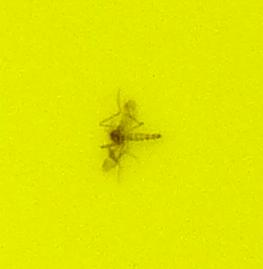Nematocera: (100, 100, 163, 169)
